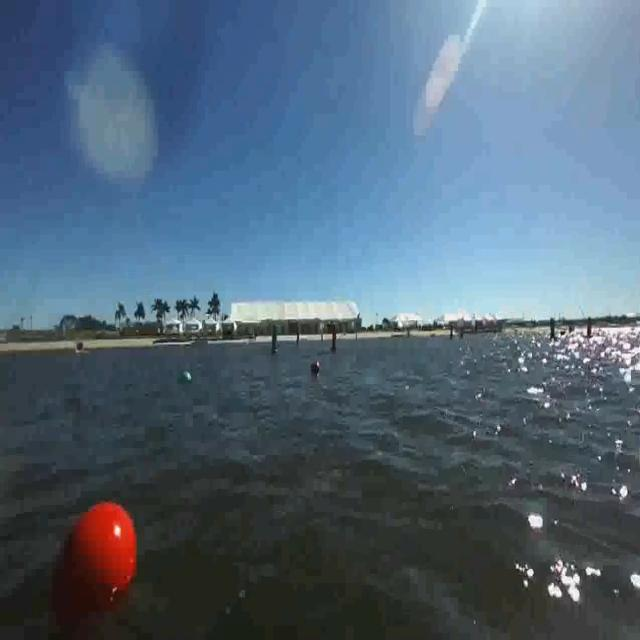green-buoy: (180, 370, 191, 388)
green-column-buoy: (270, 326, 280, 356)
red-buoy: (37, 493, 148, 633), (310, 357, 322, 376)
red-column-buoy: (330, 327, 338, 353)
